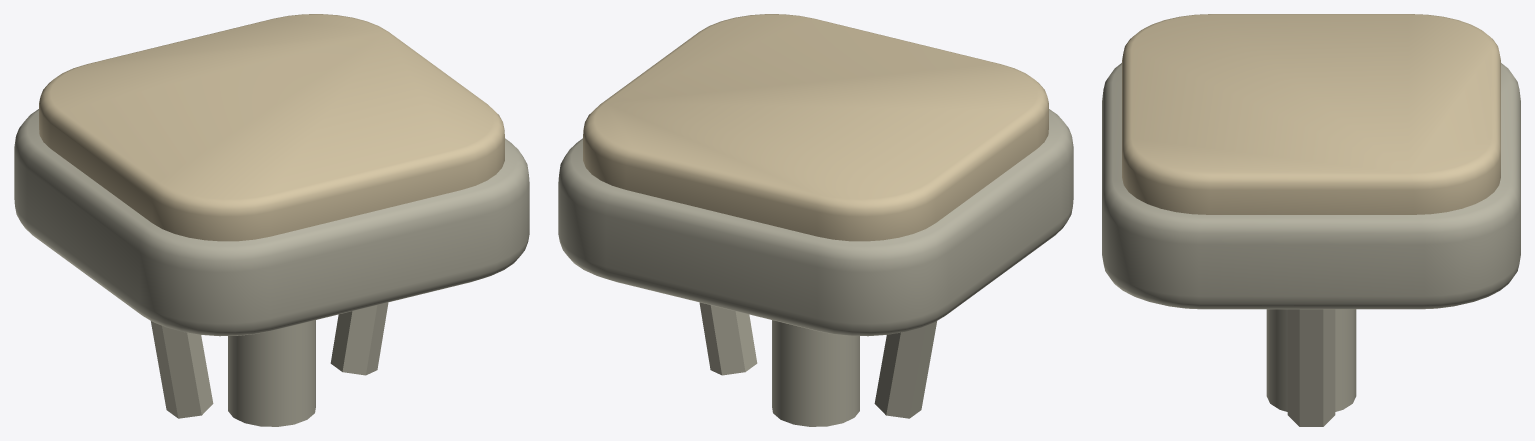
File: Foundry.glb
The picture shows the model from 3 angles, left to right: view 1: azimuth 30°, elevation 25°; view 2: azimuth 150°, elevation 25°; view 3: azimuth 270°, elevation 25°; orthographic projection.
Visible parts, largest first — view 1: Inset keytop, Key bezel, Keystem, Key support (×2); view 2: Inset keytop, Key bezel, Keystem, Key support (×2); view 3: Inset keytop, Key bezel, Key support, Keystem.
Part boxes in pixels (box(x1,y1,x2,y2)): Inset keytop: box(39, 14, 504, 241); Key bezel: box(14, 109, 529, 336); Keystem: box(228, 320, 315, 426); Key support (×2): box(151, 302, 388, 418); Inset keytop: box(583, 14, 1048, 241); Key bezel: box(558, 109, 1073, 336); Keystem: box(772, 320, 859, 426); Key support (×2): box(699, 302, 936, 418); Inset keytop: box(1122, 14, 1500, 214); Key bezel: box(1102, 63, 1520, 309); Key support: box(1287, 309, 1335, 426); Keystem: box(1266, 309, 1356, 411).
Size of the model in its own units: 0.46 by 0.351 by 0.44.
